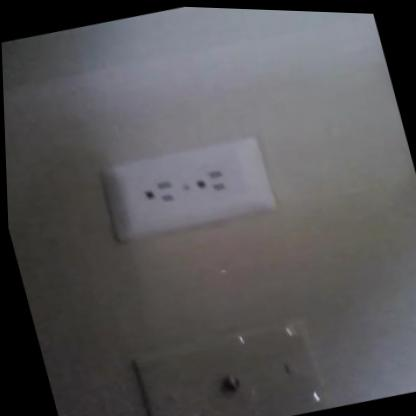OUTLET: (98, 128, 280, 247)
